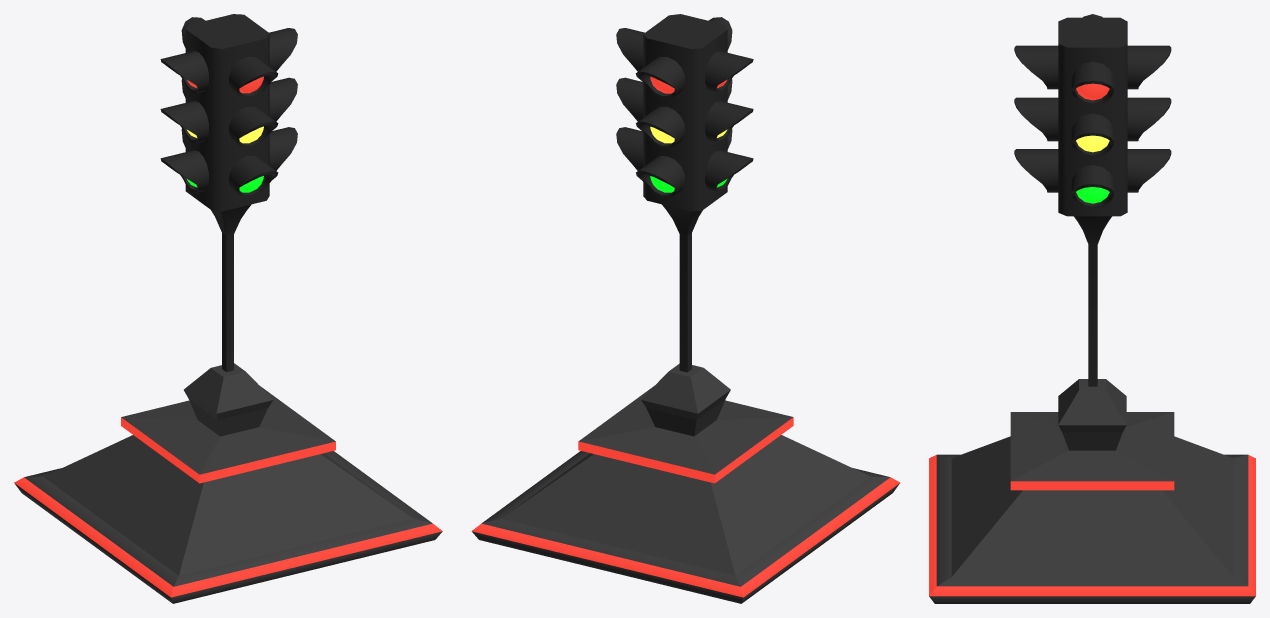
Rendered from TrafficLight 1.fbx.
The picture shows the model from 3 angles, left to right: view 1: azimuth 30°, elevation 25°; view 2: azimuth 150°, elevation 25°; view 3: azimuth 270°, elevation 25°; orthographic projection. The views are drawn at different scales.
Visible parts, largest first — view 1: Box001, Light body; view 2: Box001, Light body; view 3: Box001, Light body.
Part boxes in pixels (x1=…): Box001: x1=14, y1=363, x2=442, y2=603; Light body: x1=160, y1=14, x2=297, y2=371; Box001: x1=471, y1=363, x2=900, y2=603; Light body: x1=616, y1=14, x2=753, y2=372; Box001: x1=929, y1=379, x2=1255, y2=603; Light body: x1=1014, y1=14, x2=1171, y2=386.
Bounding box in the file's own units: 170 × 289 × 170.
